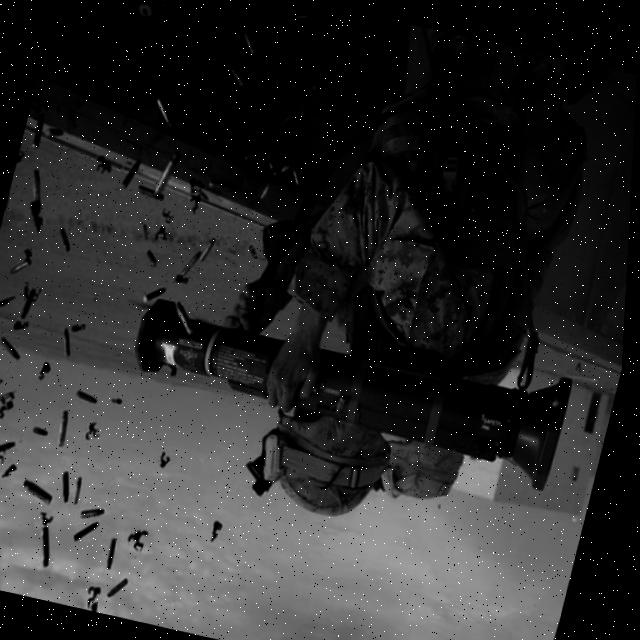rocket: (110, 268, 609, 497)
